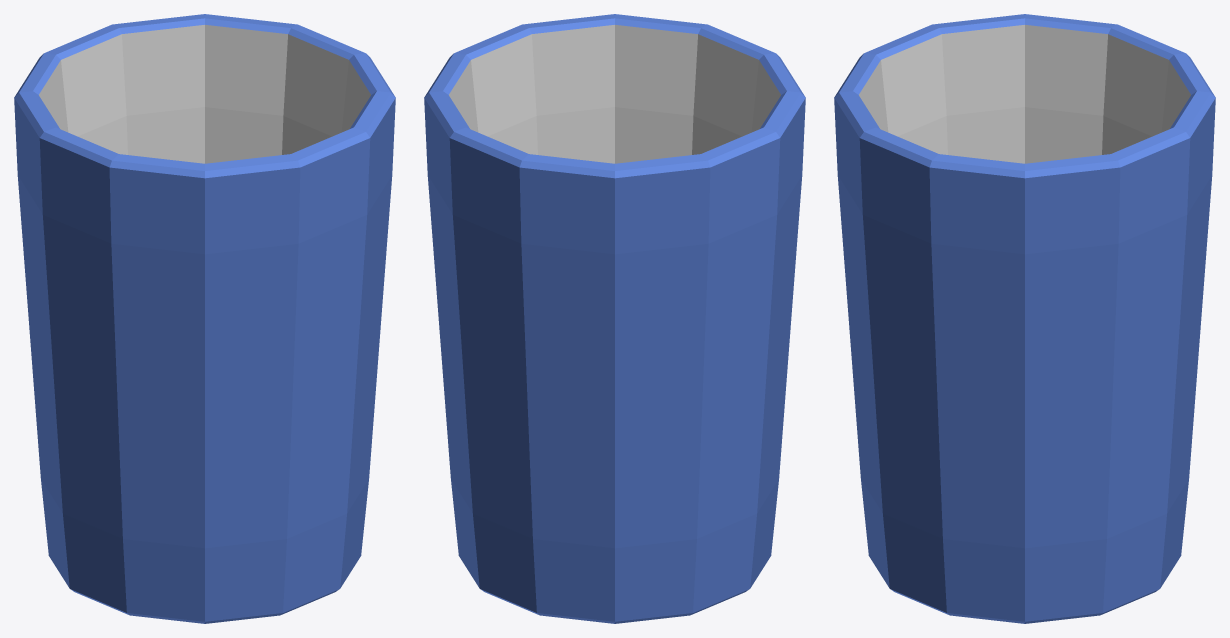
File: CATastropheCupBlue.fbx
The picture shows the model from 3 angles, left to right: view 1: azimuth 30°, elevation 25°; view 2: azimuth 150°, elevation 25°; view 3: azimuth 270°, elevation 25°; orthographic projection.
Parts seen in each view (by area): view 1: Cylinder; view 2: Cylinder; view 3: Cylinder.
Part boxes in pixels (x1=…): Cylinder: x1=14, y1=14, x2=395, y2=623; Cylinder: x1=424, y1=14, x2=805, y2=623; Cylinder: x1=834, y1=14, x2=1215, y2=623.
Bounding box in the file's own units: 30.37 × 41.2 × 30.37.
